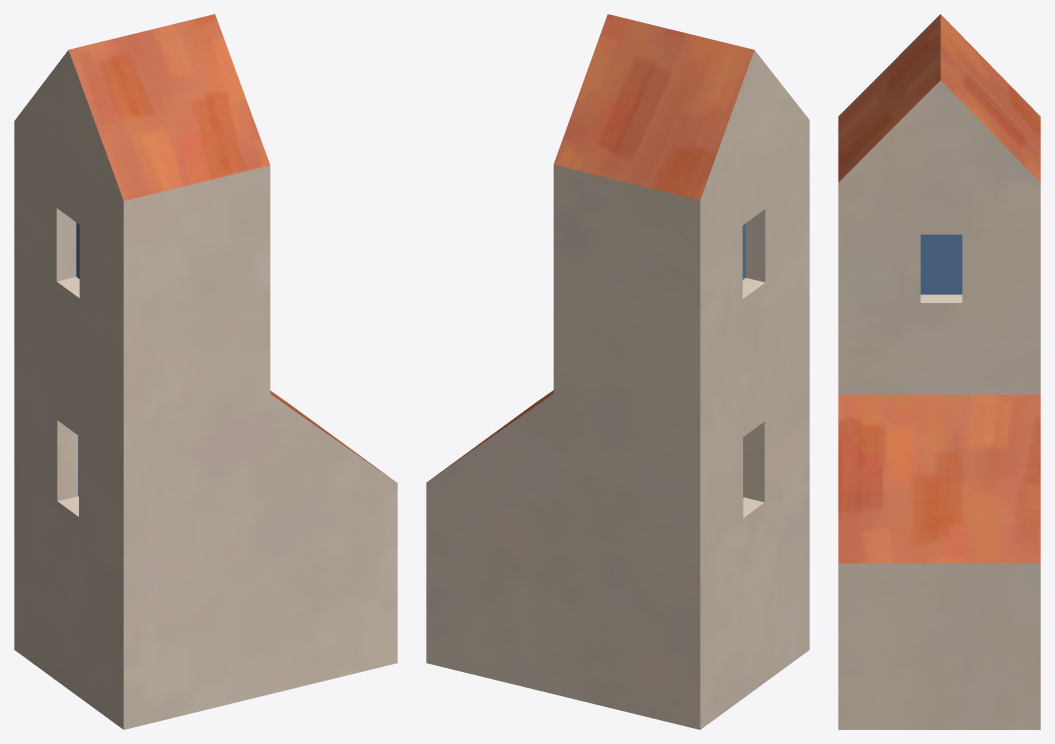
Rendered from house2.fbx.
3 views of the same model, side by side, from view 1: azimuth 30°, elevation 25°; view 2: azimuth 150°, elevation 25°; view 3: azimuth 270°, elevation 25° (orthographic). The views are drawn at different scales.
Parts seen in each view (by area): view 1: house2; view 2: house2; view 3: house2.
Boxes of the visible parts, x1,y1,x2,y2 form: house2: [14, 14, 397, 729]; house2: [426, 14, 809, 729]; house2: [838, 14, 1040, 729].
Size of the model in its own units: 315 by 704 by 218.
